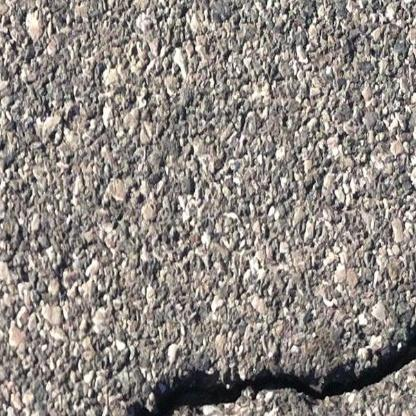Cracks: (61, 319, 416, 416)
